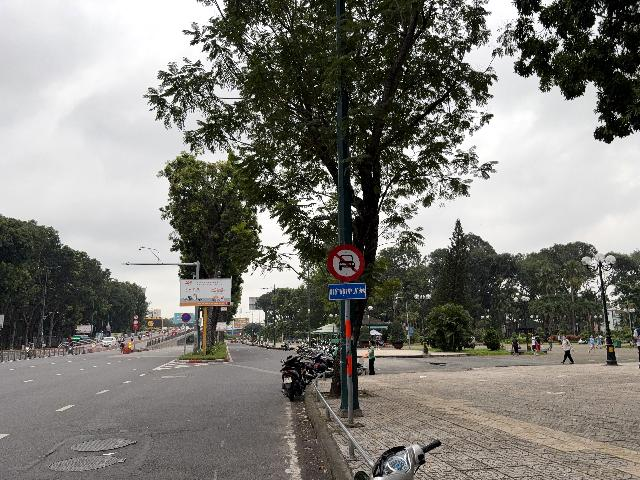cam-o-to: (328, 244, 365, 282)
